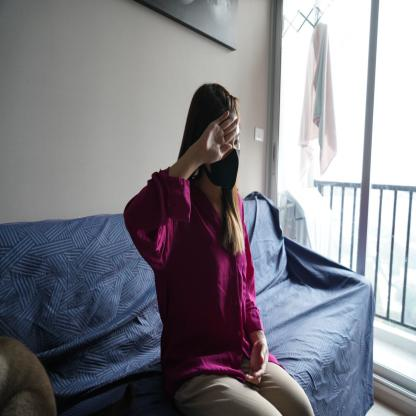Sick: (196, 107, 240, 168)
